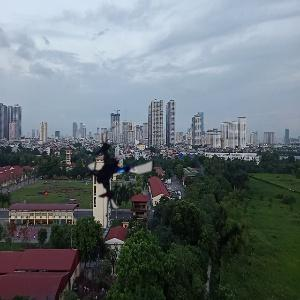drone: (78, 126, 163, 211)
